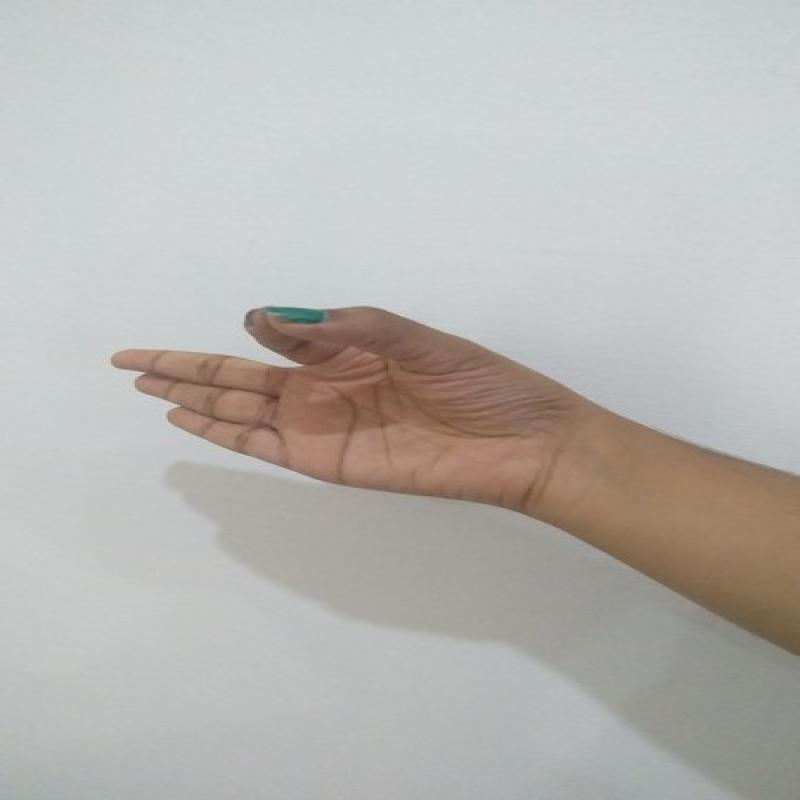Mudraakhyam: (98, 289, 558, 511)
